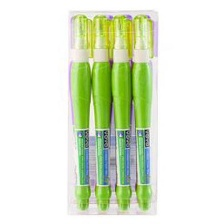correction_fluid: (88, 14, 115, 212), (109, 12, 134, 212), (130, 12, 154, 213), (69, 11, 93, 212)
